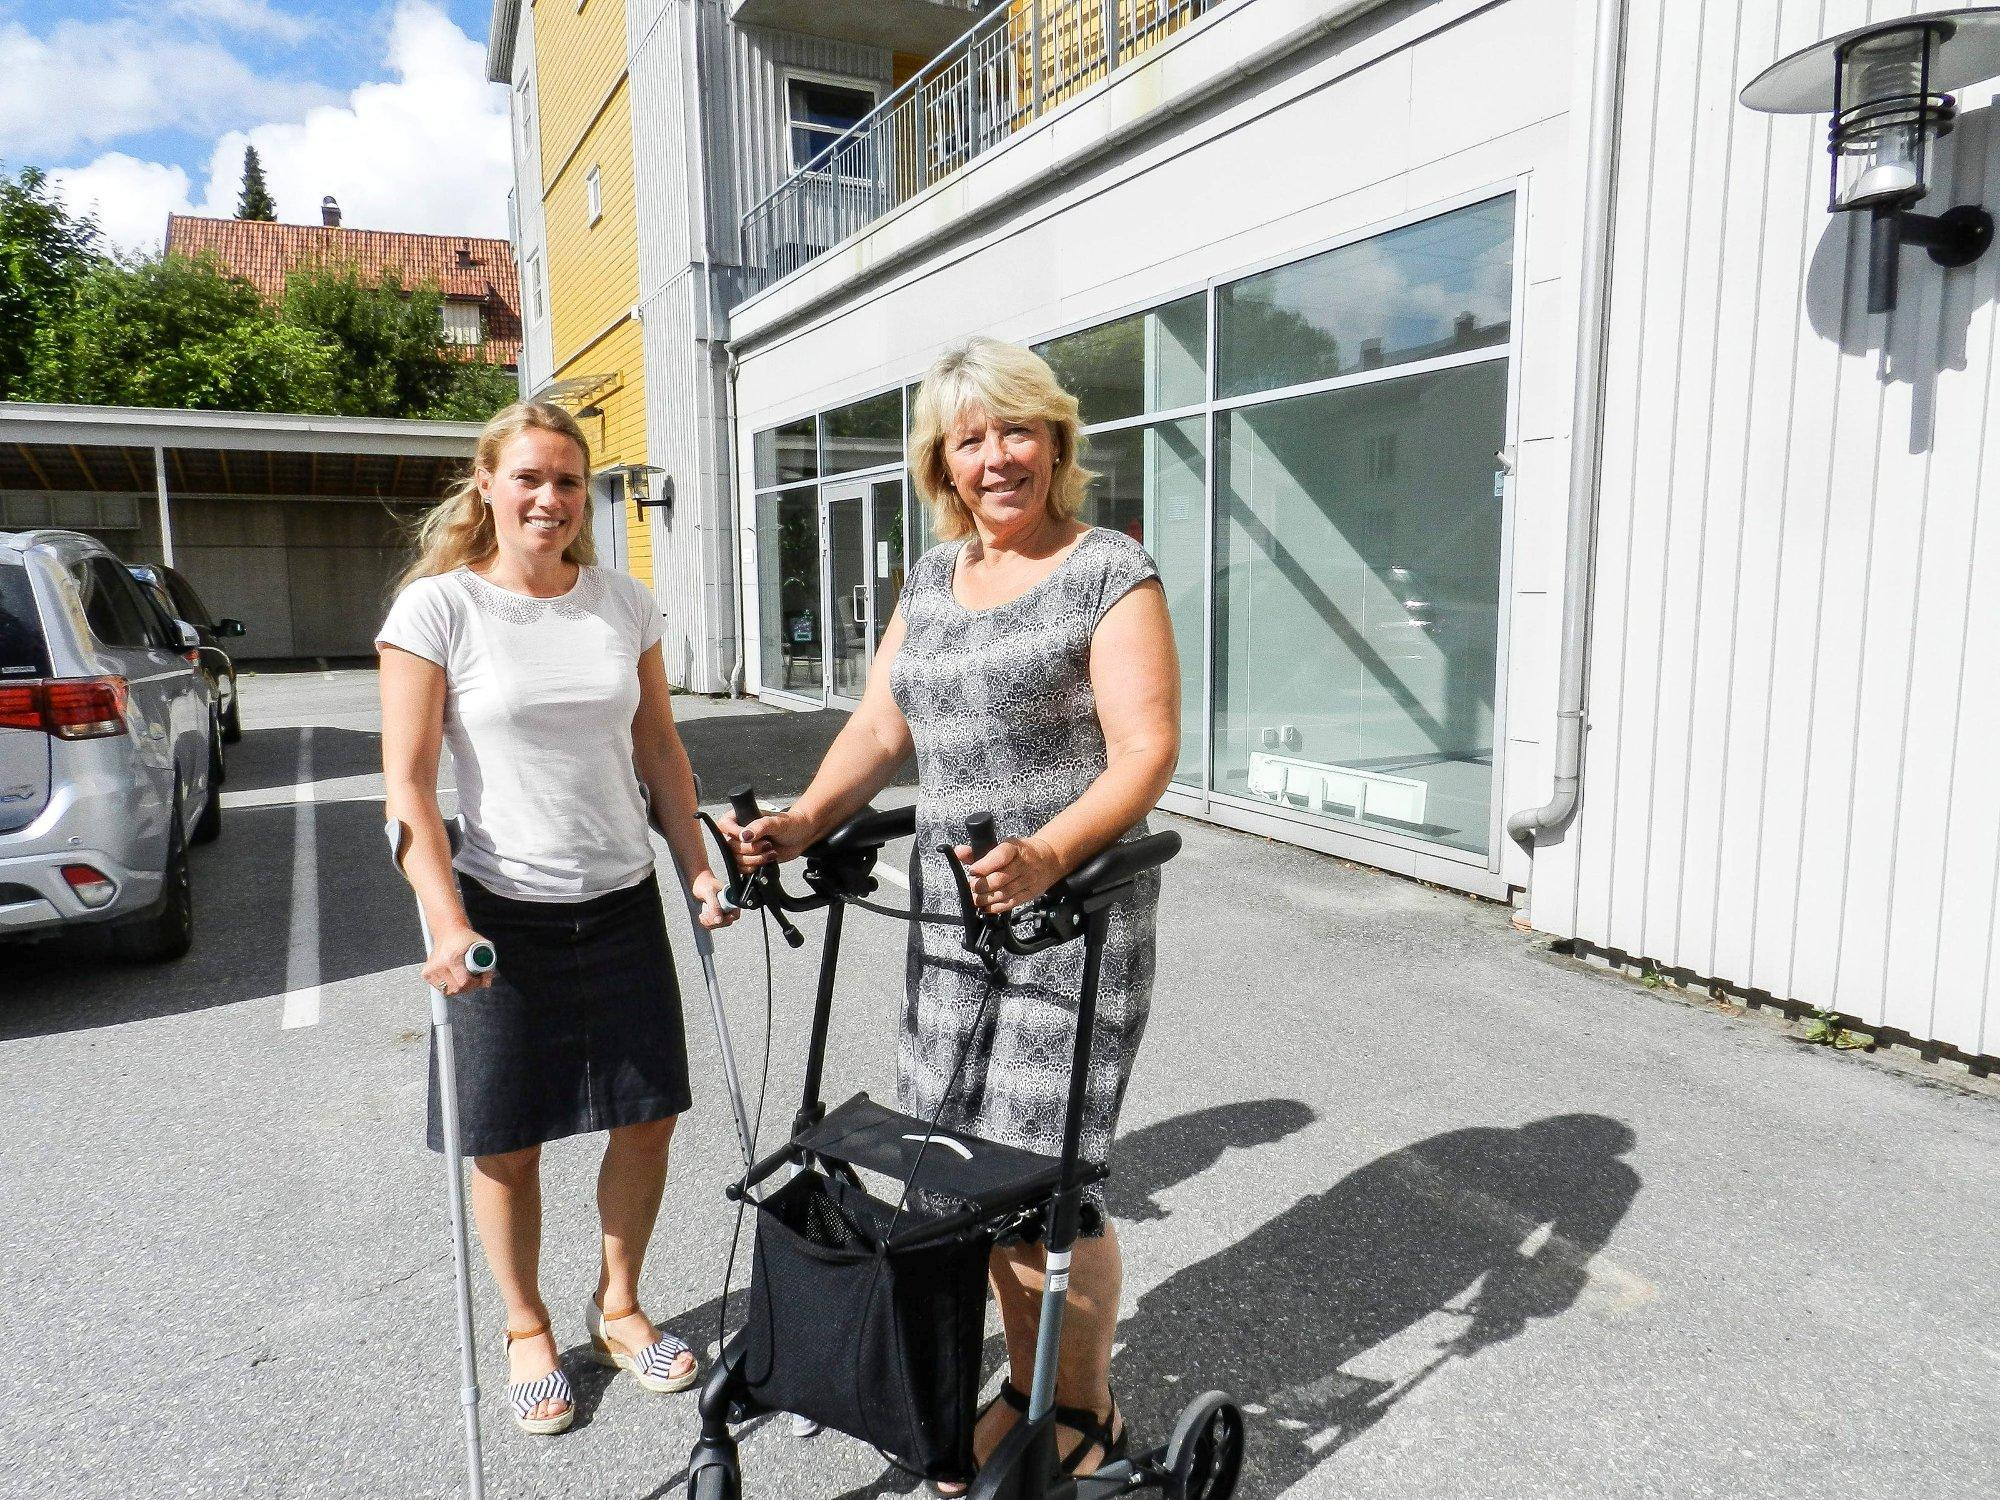crutches: (380, 403, 704, 1500)
